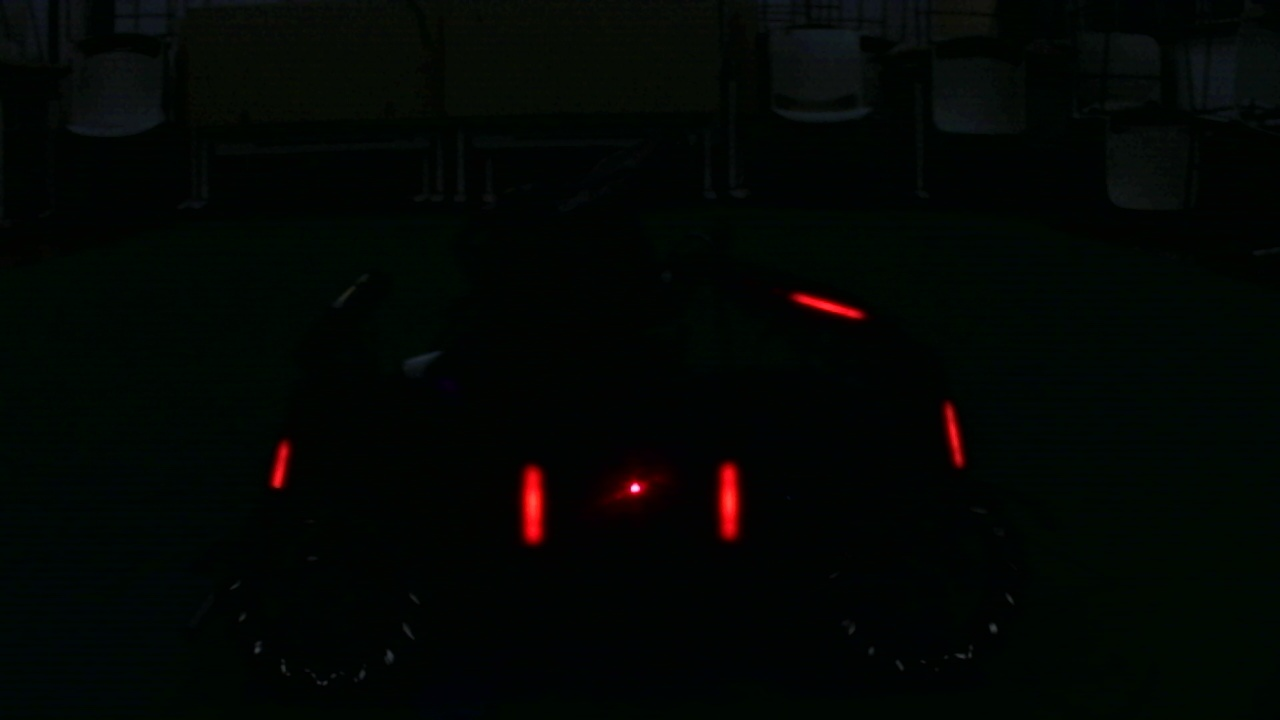lamp: (516, 463, 543, 542), (714, 461, 741, 540), (941, 395, 965, 469), (268, 432, 292, 494)
notpair1: (719, 396, 966, 546), (271, 432, 546, 549)
pair1: (517, 463, 742, 542)
